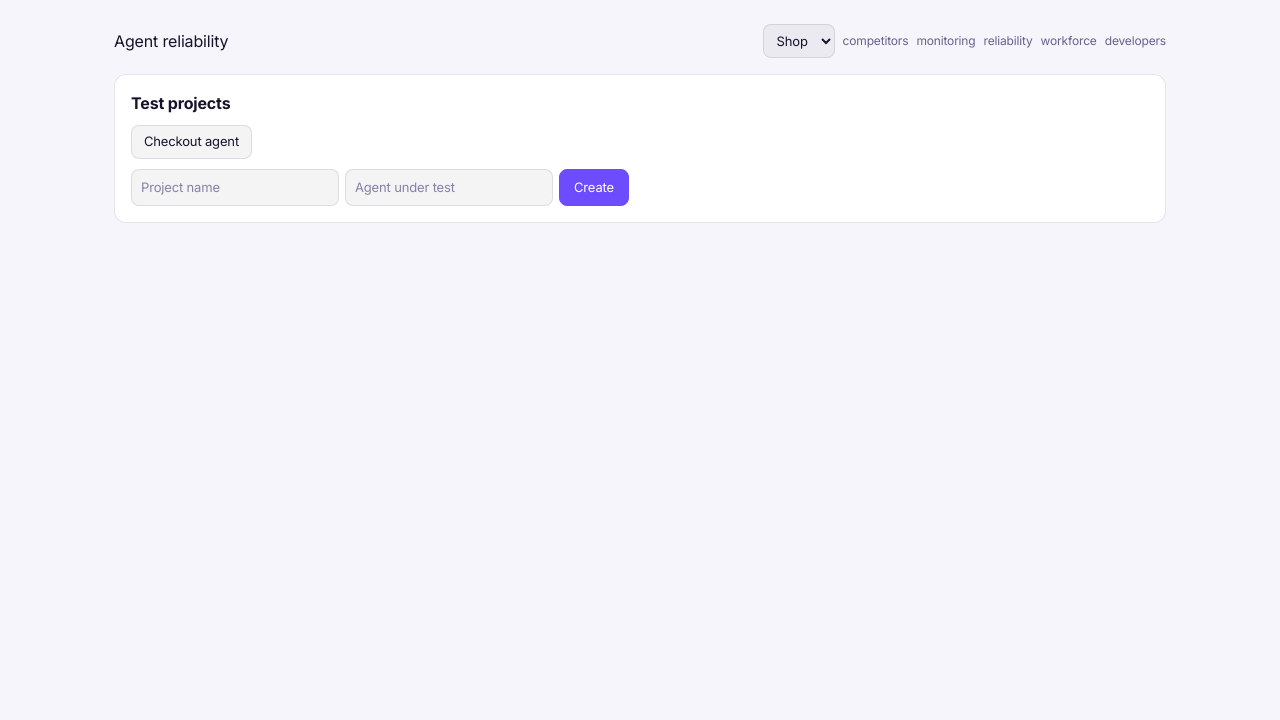
Test: Reliability: a run shows verdicts, failure categories and server-computed metrics
Click the button "Checkout agent" at {"x": 192, "y": 142}, box [131,125,252,158]
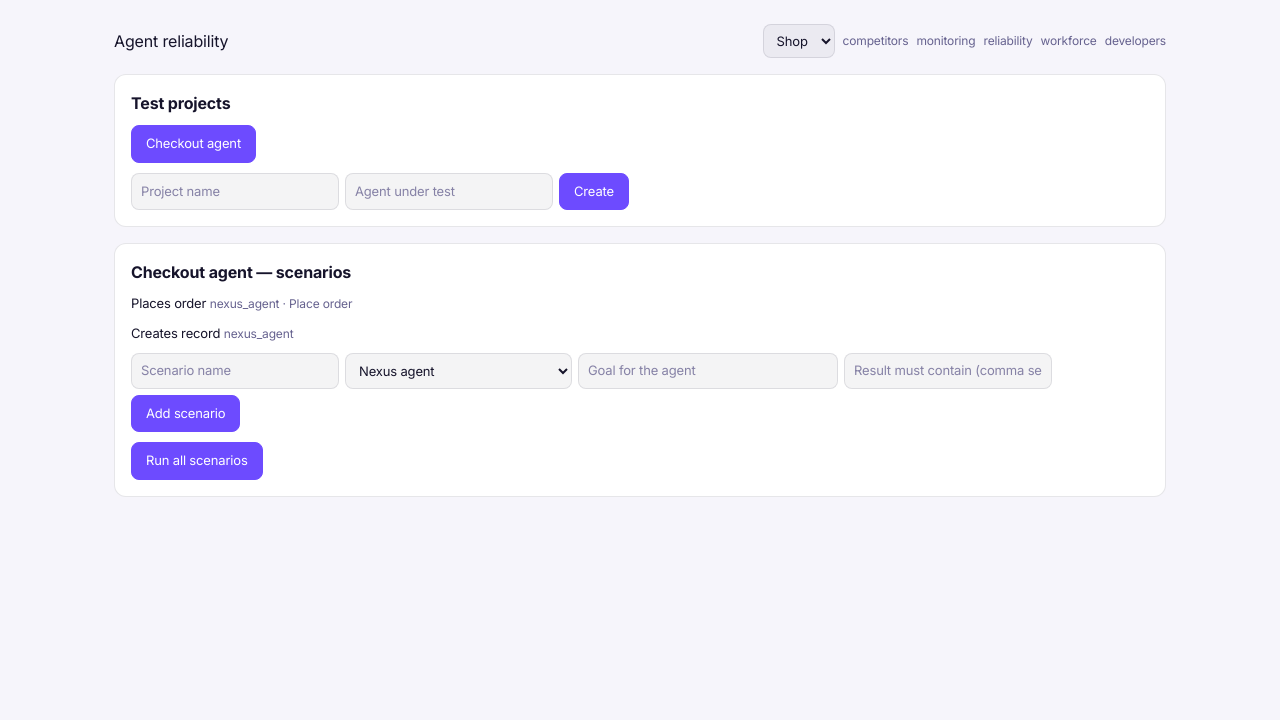
Click the button "Run all scenarios" at {"x": 197, "y": 461}, box [131,442,263,480]
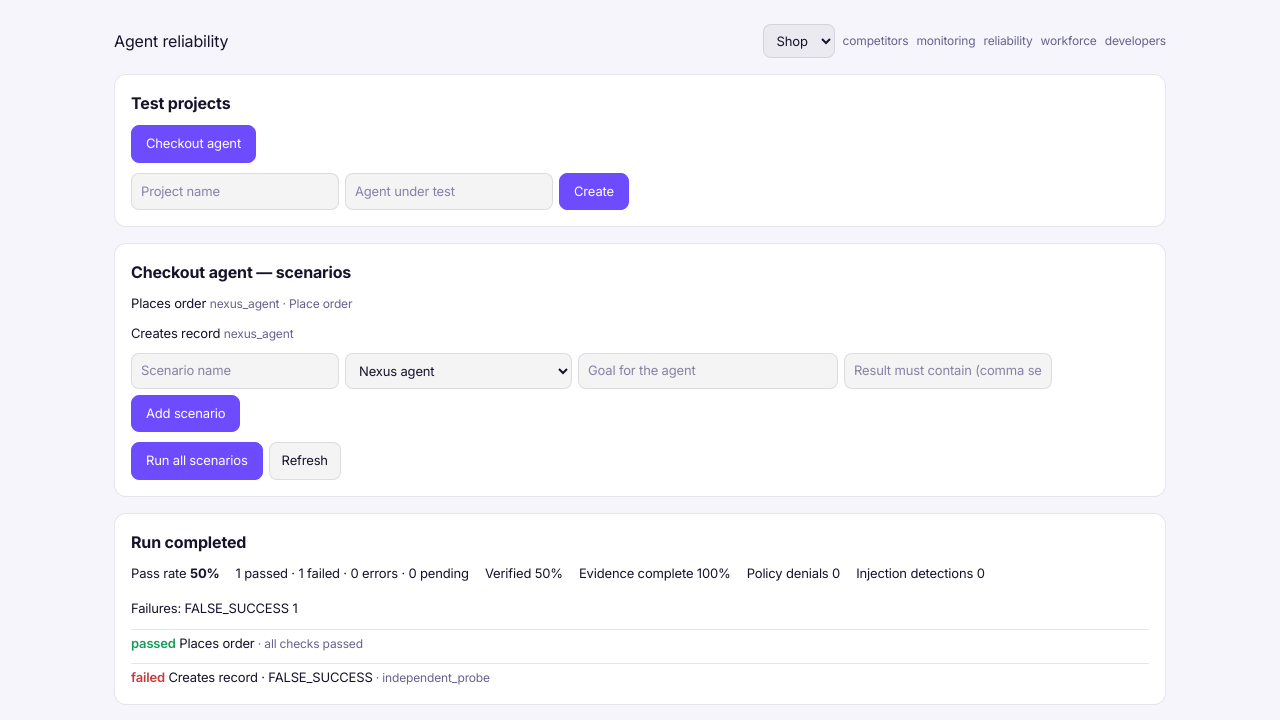
Check: the element with test id "qa-report" shows "Pass rate 50%", box [131,564,985,616]
Check: the element with test id "result-r2" shows "FALSE_SUCCESS", box [268,669,373,685]
Check: the element with test id "result-r2" shows "independent_probe", box [382,670,490,685]
